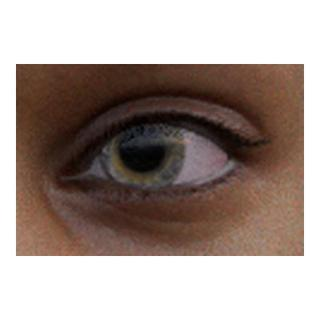pupil: (118, 126, 165, 173)
